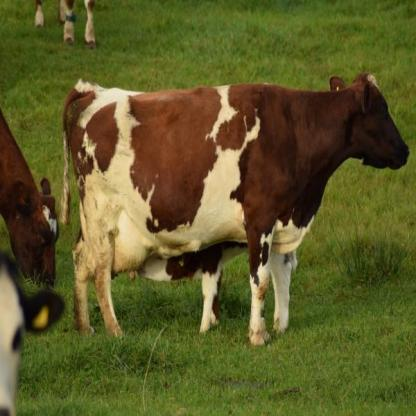cow: (63, 82, 410, 347), (0, 110, 58, 284)
